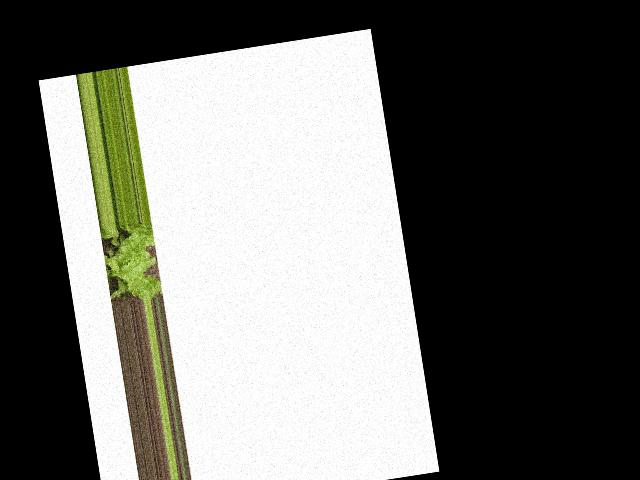lettuce: (96, 220, 160, 305)
